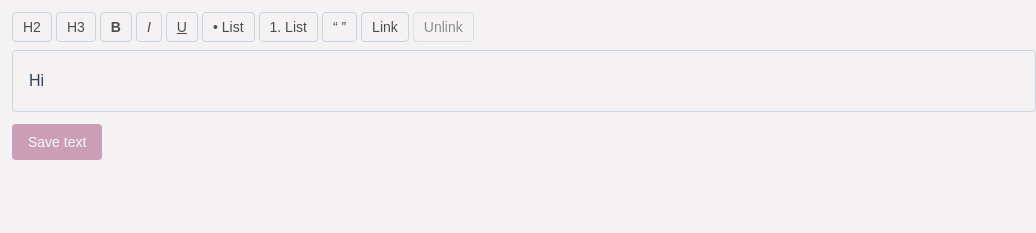
Scenario: LessonTextEditor › shows why a save was refused and keeps Save available, without refreshing
Click the button named "Heading" at (32, 27), box [12,12,52,42]
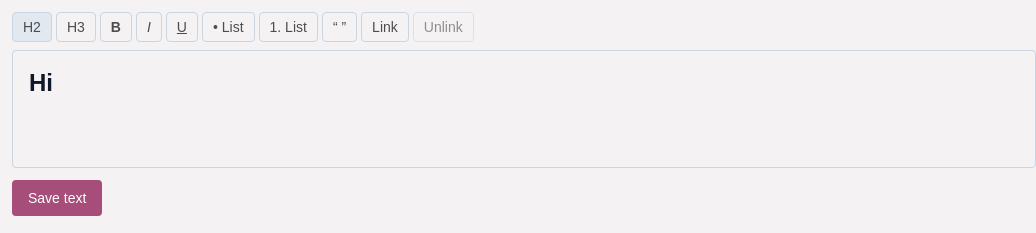
Click the button "Save text" at (57, 198), box [12,180,102,216]
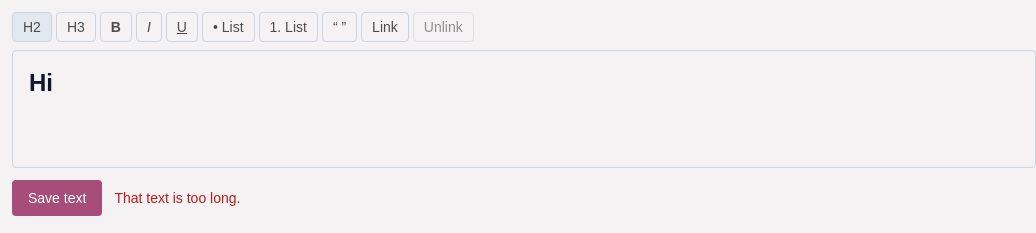
Now the button "Save text" is enabled, box [12,180,102,216]
Now the message reads "That text is too long.", box [114,190,240,206]
